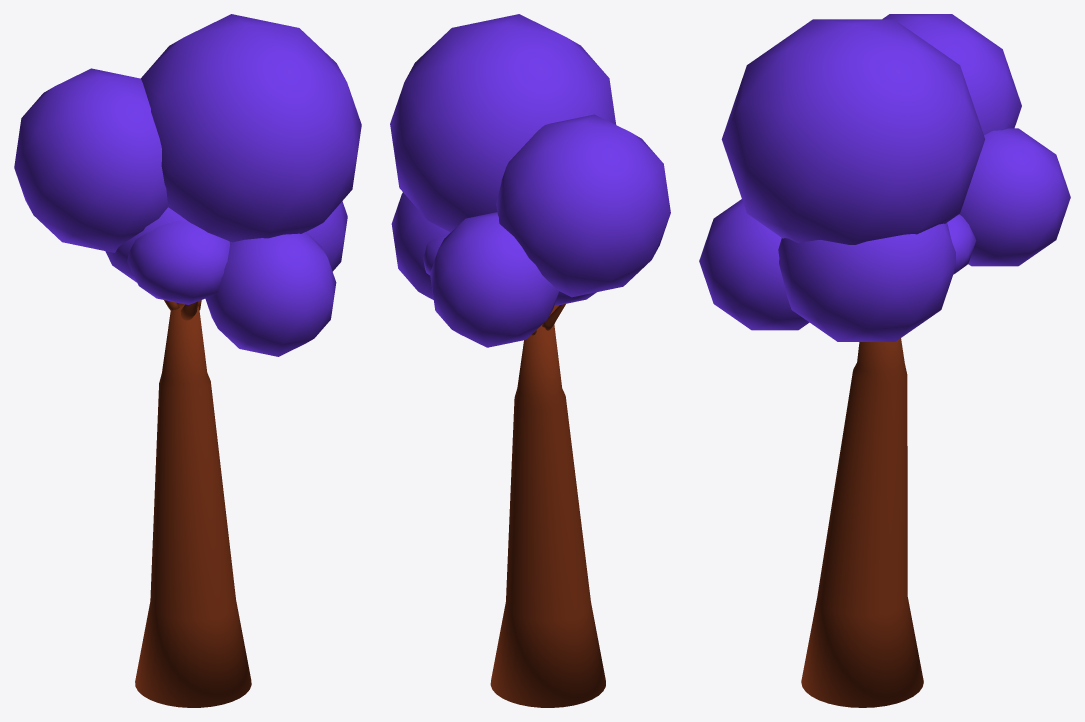
The model's file is derevo1Kosmos.fbx.
3 views of the same model, side by side, from view 1: azimuth 30°, elevation 25°; view 2: azimuth 150°, elevation 25°; view 3: azimuth 270°, elevation 25° (orthographic). The views are drawn at different scales.
Parts seen in each view (by area): view 1: Икосфера.005; view 2: Икосфера.005; view 3: Икосфера.005.
Boxes of the visible parts, x1,y1,x2,y2 form: Икосфера.005: [14, 14, 361, 707]; Икосфера.005: [390, 14, 670, 707]; Икосфера.005: [699, 14, 1070, 707].
Bounding box in the file's own units: 1065 × 2351 × 1160.
